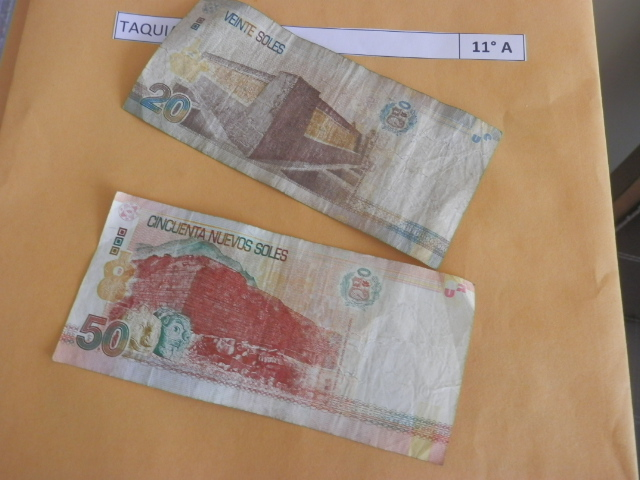B20: (120, 4, 556, 262)
B50: (55, 196, 526, 468)
